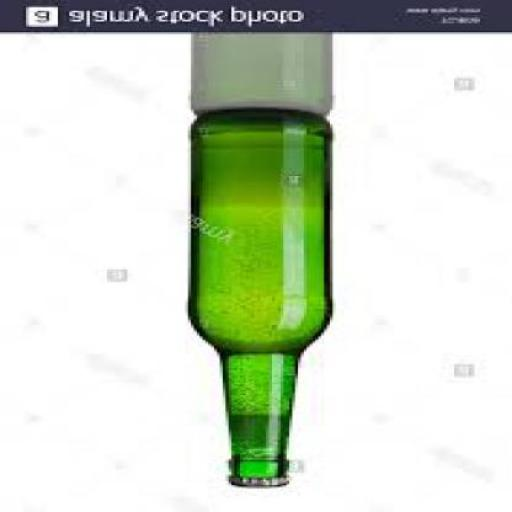glass: (185, 110, 327, 480)
metal: (225, 478, 287, 491)
